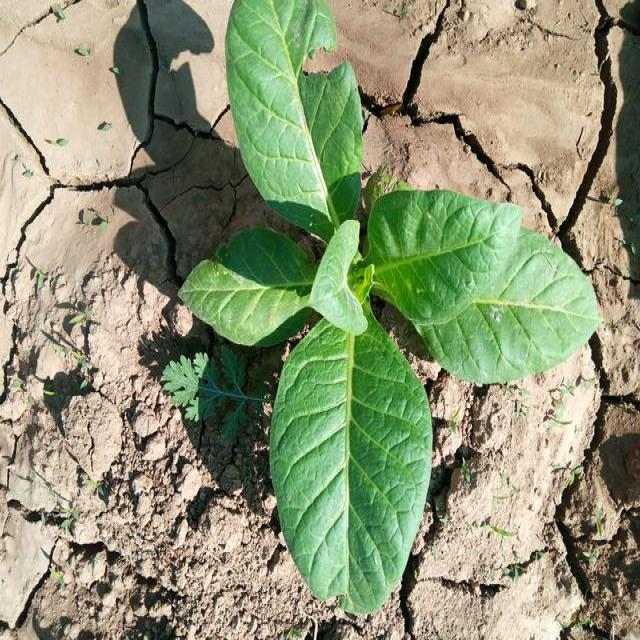crop: (182, 2, 604, 610)
